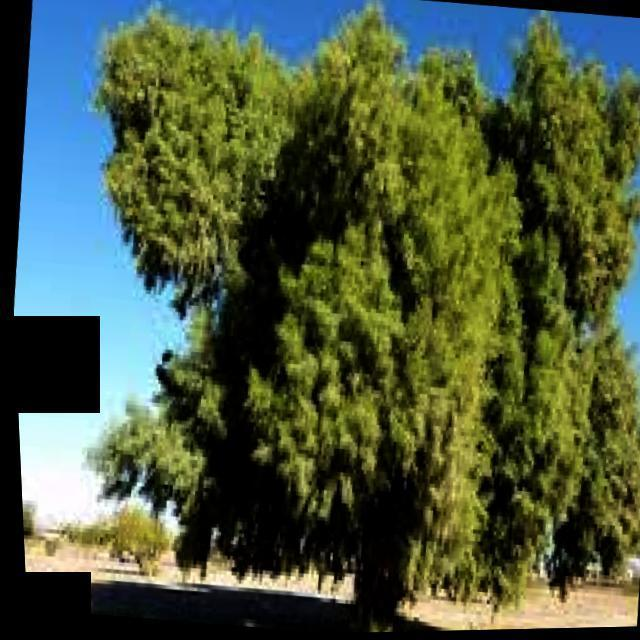tree: (29, 0, 640, 639), (100, 499, 169, 579)
